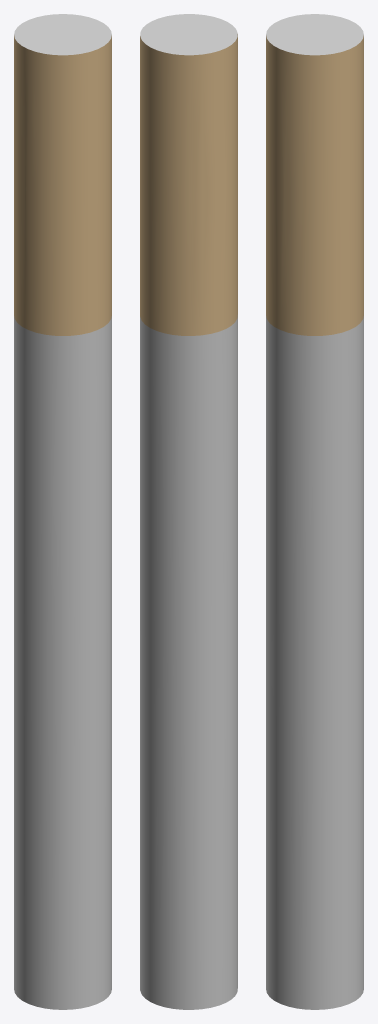
The model's file is タバコ1本分離.fbx.
3 views of the same model, side by side, from view 1: azimuth 90°, elevation 25°; view 2: azimuth 150°, elevation 25°; view 3: azimuth 270°, elevation 25° (orthographic).
Visible parts, largest first — view 1: Body, Body.001; view 2: Body, Body.001; view 3: Body, Body.001.
Boxes of the visible parts, x1,y1,x2,y2 form: Body: (14,14,111,841); Body.001: (14,821,111,1009); Body: (140,14,237,841); Body.001: (140,821,237,1009); Body: (266,14,363,841); Body.001: (266,821,363,1009).
Bounding box in the file's own units: 0.79 × 8.5 × 0.79.
